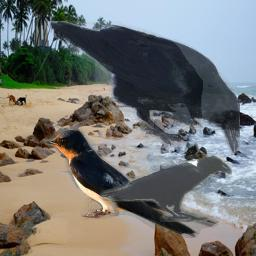Crow: (48, 21, 240, 153), (99, 154, 232, 222)
Swallow: (41, 124, 219, 238)
